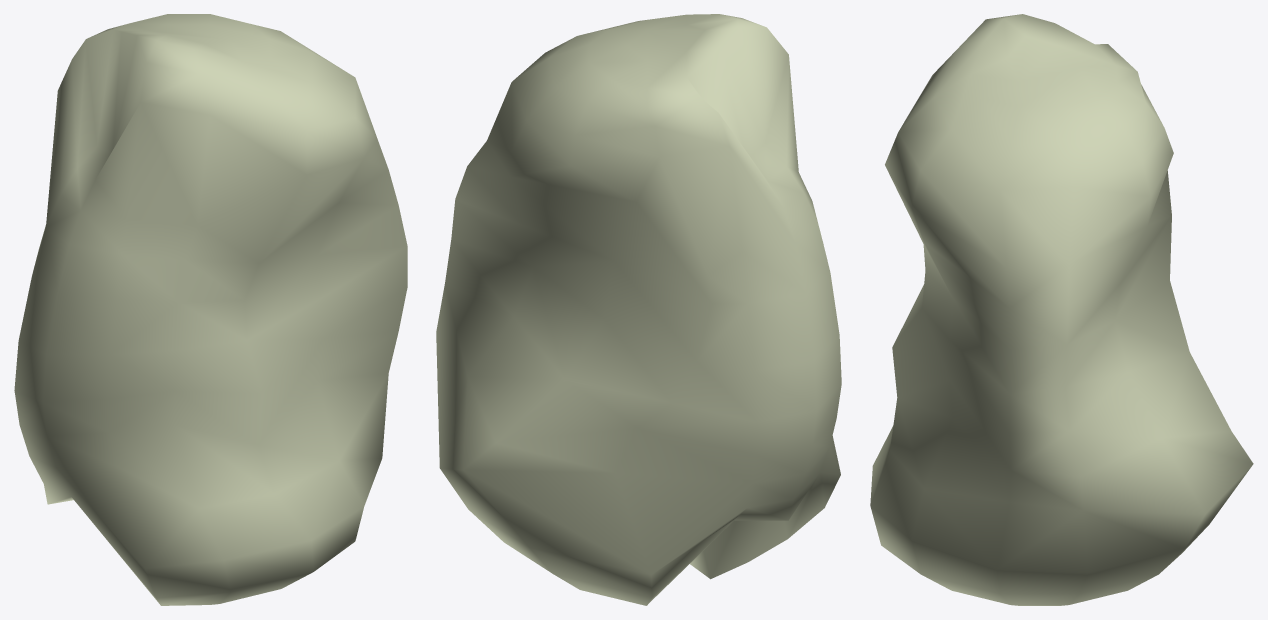
The model's file is sAsteroid4_coll.obj.
The picture shows the model from 3 angles, left to right: view 1: azimuth 30°, elevation 25°; view 2: azimuth 150°, elevation 25°; view 3: azimuth 270°, elevation 25°; orthographic projection. The views are drawn at different scales.
Visible parts, largest first — view 1: sphere1; view 2: sphere1; view 3: sphere1.
Part boxes in pixels (x1,y1,x2,y2): sphere1: (14,14,407,605); sphere1: (436,14,841,605); sphere1: (870,14,1253,605).
Size of the model in its own units: 1.41 by 2.03 by 1.31.
